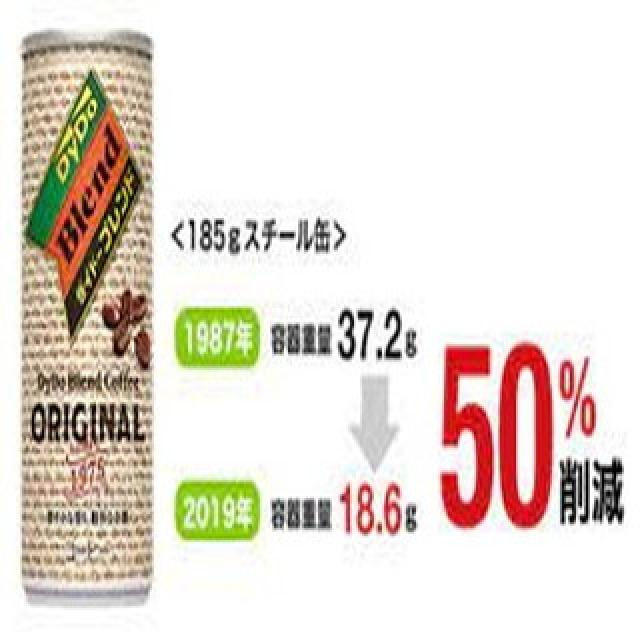Anorganik: (15, 24, 166, 616)
